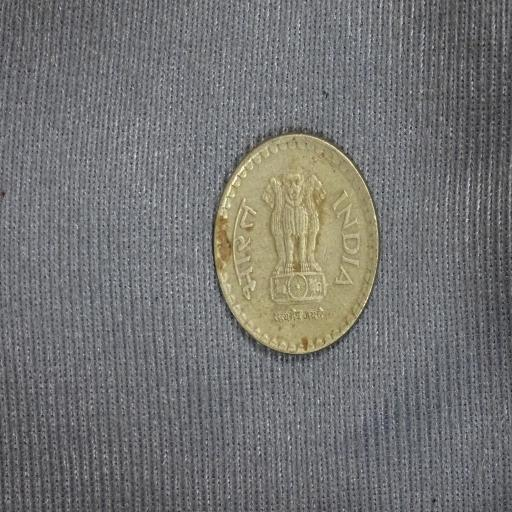rupee5: (211, 135, 379, 352)
